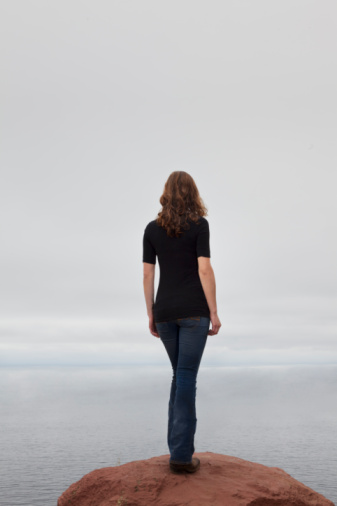em pe: (127, 161, 232, 475)
